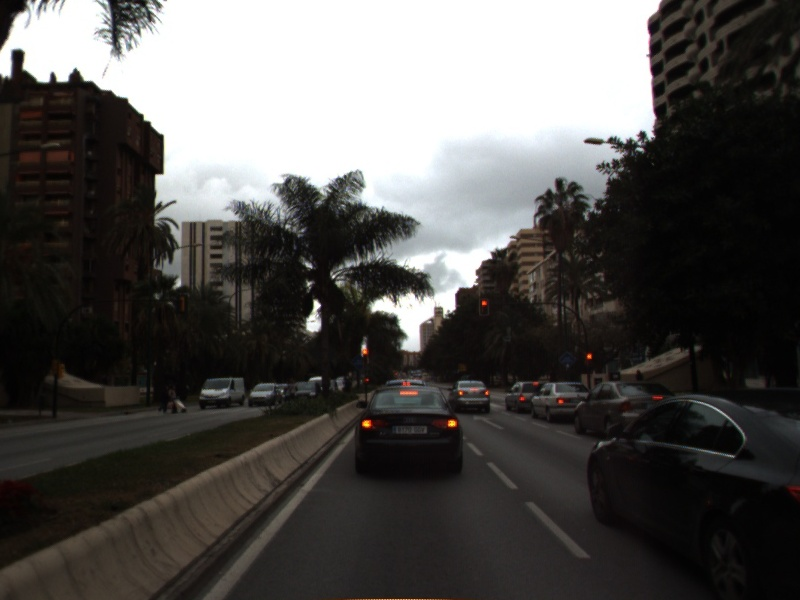STRAIGHT: (471, 412, 506, 431)
